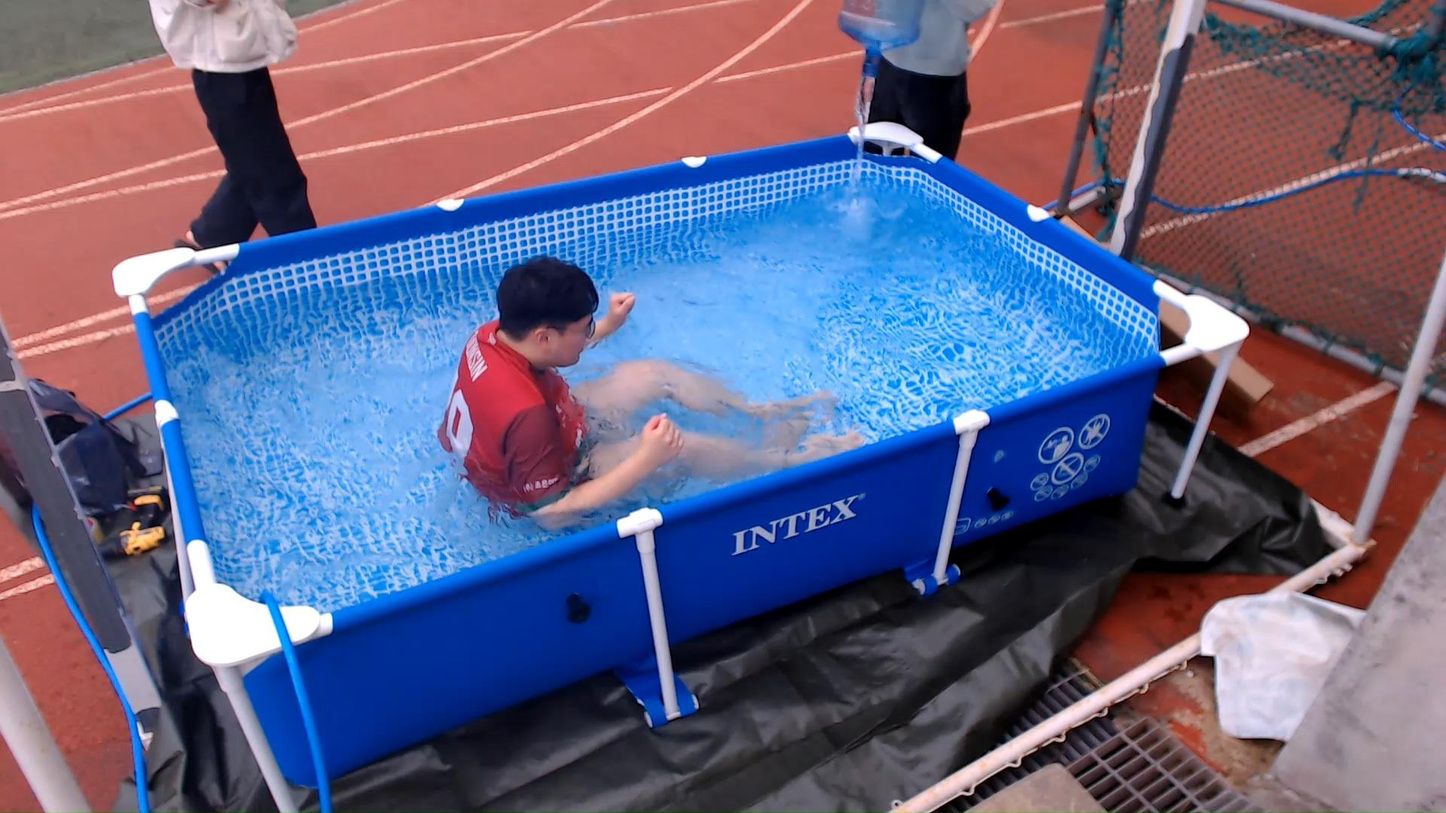Person-out-of-water: (60, 0, 357, 268), (854, 0, 1008, 226)
Swimming: (385, 234, 940, 569)
